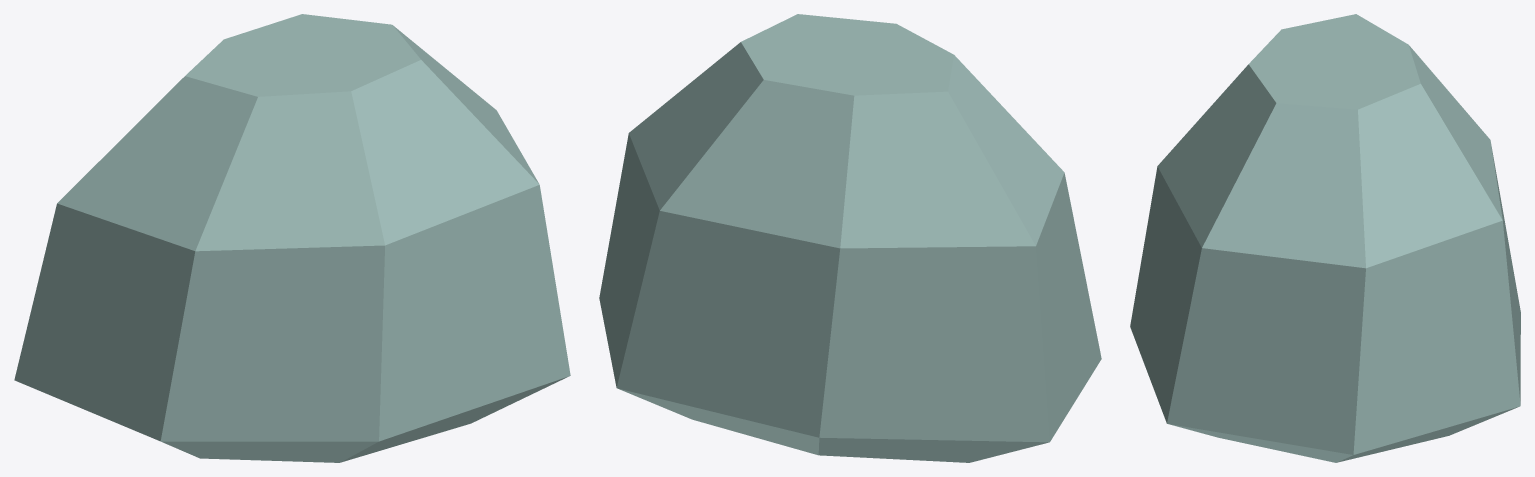
File: rock-rounded-cool.glb
3 renders of one model, left to right at view 1: azimuth 30°, elevation 25°; view 2: azimuth 150°, elevation 25°; view 3: azimuth 270°, elevation 25°, orthographic. The views are drawn at different scales.
Parts seen in each view (by area): view 1: rock-rounded-cool; view 2: rock-rounded-cool; view 3: rock-rounded-cool.
Part boxes in pixels (x1=…): rock-rounded-cool: x1=14, y1=14, x2=570, y2=462; rock-rounded-cool: x1=599, y1=14, x2=1101, y2=462; rock-rounded-cool: x1=1130, y1=14, x2=1520, y2=462.
Bounding box in the file's own units: 2.05 × 1.38 × 1.5.
